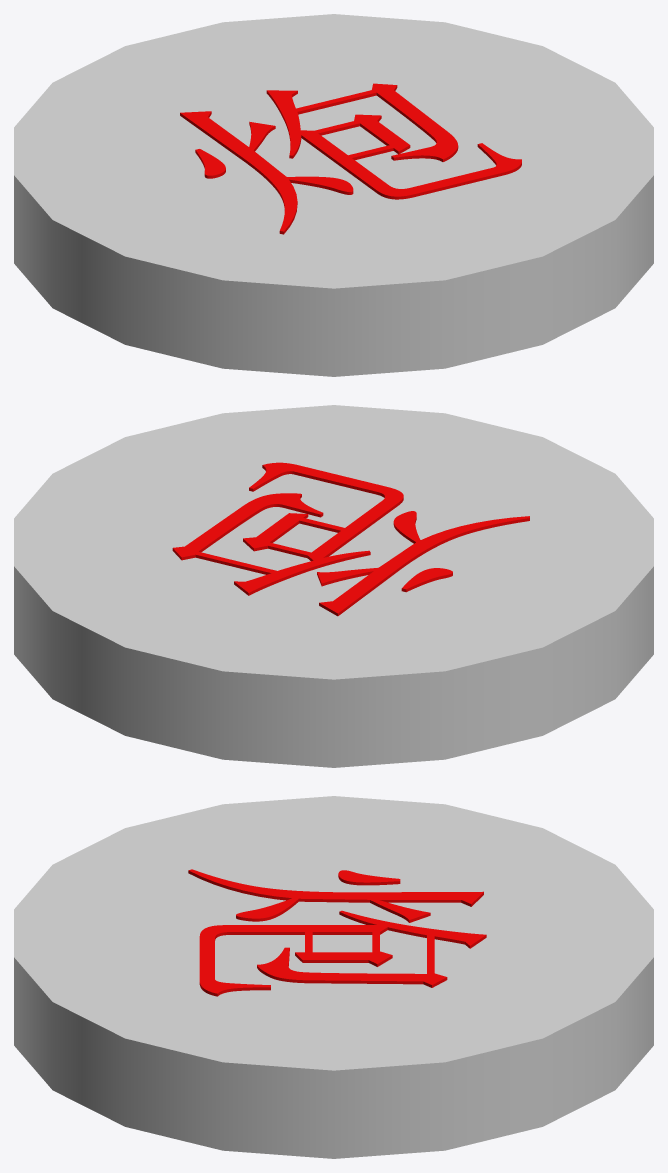
3 renders of one model, top to bottom at view 1: azimuth 30°, elevation 25°; view 2: azimuth 150°, elevation 25°; view 3: azimuth 270°, elevation 25°, orthographic.
Visible parts, largest first — view 1: Cylinder001, Text001; view 2: Cylinder001, Text001; view 3: Cylinder001, Text001.
Boxes of the visible parts, x1,y1,x2,y2 form: Cylinder001: (14,14,653,376); Text001: (180,83,521,234); Cylinder001: (14,405,653,767); Text001: (172,462,529,616); Cylinder001: (14,796,653,1158); Text001: (188,869,486,996).
Bounding box in the file's own units: 20 × 19.7 × 3.1.
